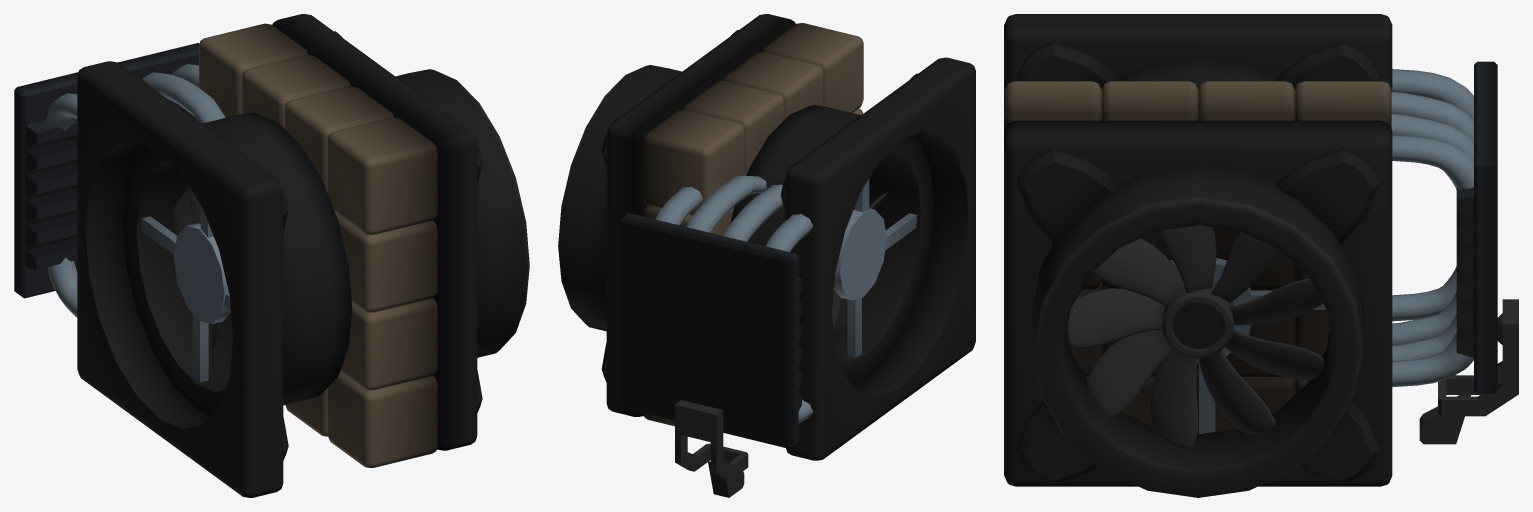
File: Cooling_systems_lvl_06_V07.fbx
The picture shows the model from 3 angles, left to right: view 1: azimuth 30°, elevation 25°; view 2: azimuth 150°, elevation 25°; view 3: azimuth 270°, elevation 25°; orthographic projection. The views are drawn at different scales.
Visible parts, largest first — view 1: Body_Cooling, Fan_Cooling_01; view 2: Body_Cooling, Fan_Cooling_01; view 3: Body_Cooling, Fan_Cooling_01.
Boxes of the visible parts, x1,y1,x2,y2 form: Body_Cooling: [14, 14, 529, 497]; Fan_Cooling_01: [173, 185, 222, 349]; Body_Cooling: [558, 14, 975, 497]; Fan_Cooling_01: [832, 193, 886, 333]; Body_Cooling: [1004, 14, 1518, 497]; Fan_Cooling_01: [1067, 225, 1324, 449].
Size of the model in its own units: 41.69 by 43.61 by 52.6.
